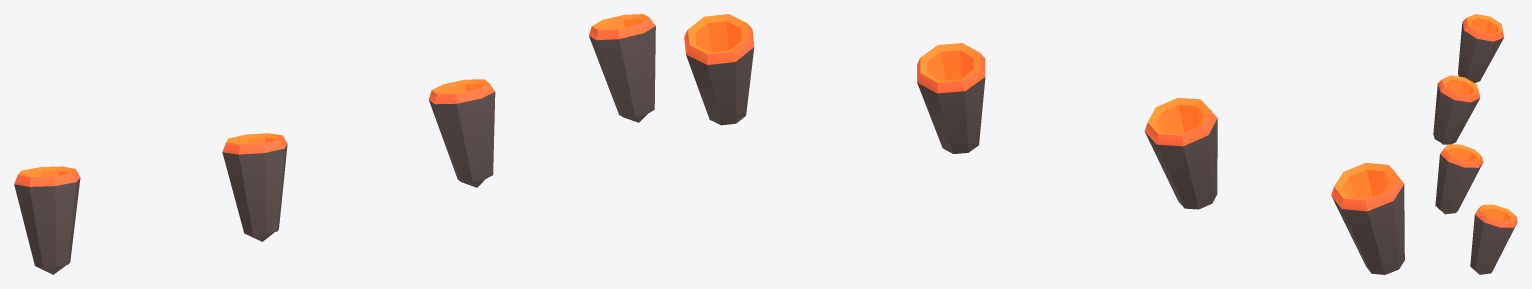
Rendered from TochasTexture.fbx.
3 renders of one model, left to right at view 1: azimuth 30°, elevation 25°; view 2: azimuth 150°, elevation 25°; view 3: azimuth 270°, elevation 25°, orthographic. The views are drawn at different scales.
Visible parts, largest first — view 1: Tochas; view 2: Tochas; view 3: Tochas.
Part boxes in pixels (x1=…): Tochas: x1=14, y1=14, x2=655, y2=274; Tochas: x1=684, y1=14, x2=1404, y2=274; Tochas: x1=1433, y1=14, x2=1517, y2=274.
Bounding box in the file's own units: 7.41 × 1.09 × 1.28.
